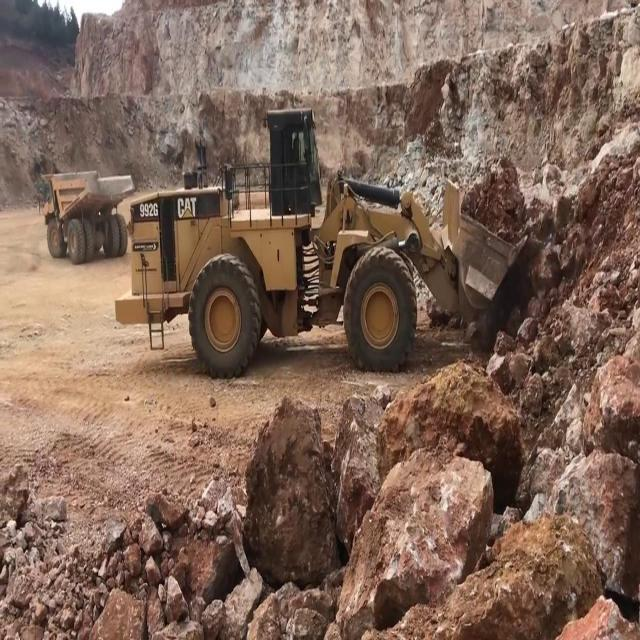Dump Truck: (37, 169, 135, 263)
Loader: (114, 108, 529, 378)
